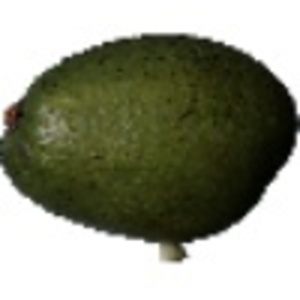abacate: (2, 30, 299, 242)
